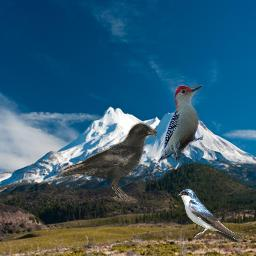Crow: (54, 122, 157, 203)
Swallow: (177, 189, 242, 243)
Woodpecker: (156, 84, 204, 164)
